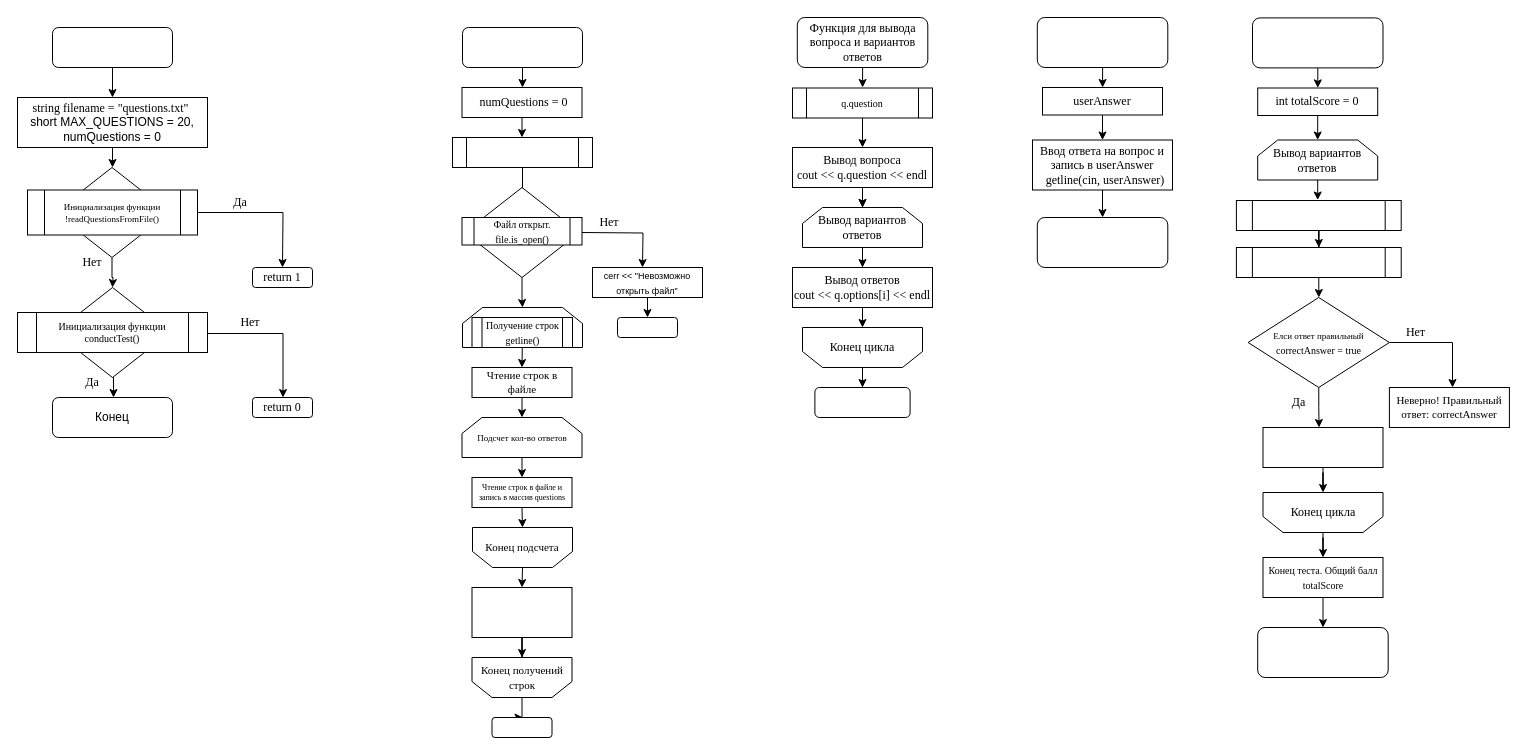
Some shapes in this 1527 by 755 pixel diagram are drawn without their labels. The box of each missing label's shape, as (x1, y1, x2, y2) in pixels:
file(filename): (452, 136, 592, 168)
return false: (616, 316, 678, 338)
return true: (491, 716, 552, 738)
void: (814, 386, 910, 418)
Возвращает totalScore: (1257, 626, 1388, 678)
Возвращает true если ответ корректный или false если нет: (1036, 216, 1168, 268)
Вывод вопроса на консоль. displayQuestion(questions[i]): (1235, 200, 1401, 230)
Главная программа: (52, 26, 172, 68)
Правильно. Вы заработали баллов questions[i].points: (1262, 426, 1383, 468)
Считываем правильный ответ Считываем количество баллов за вопрос: (471, 586, 572, 638)
Функция для ответа на вопрос: (1036, 16, 1168, 68)
Функция для проведения тестирования: (1252, 17, 1383, 68)
Функция для чтения вопросов из файла: (462, 26, 582, 68)
Чтение правильного ответа. correctAnswer = answerQuestion(questions[i]): (1235, 246, 1401, 278)
